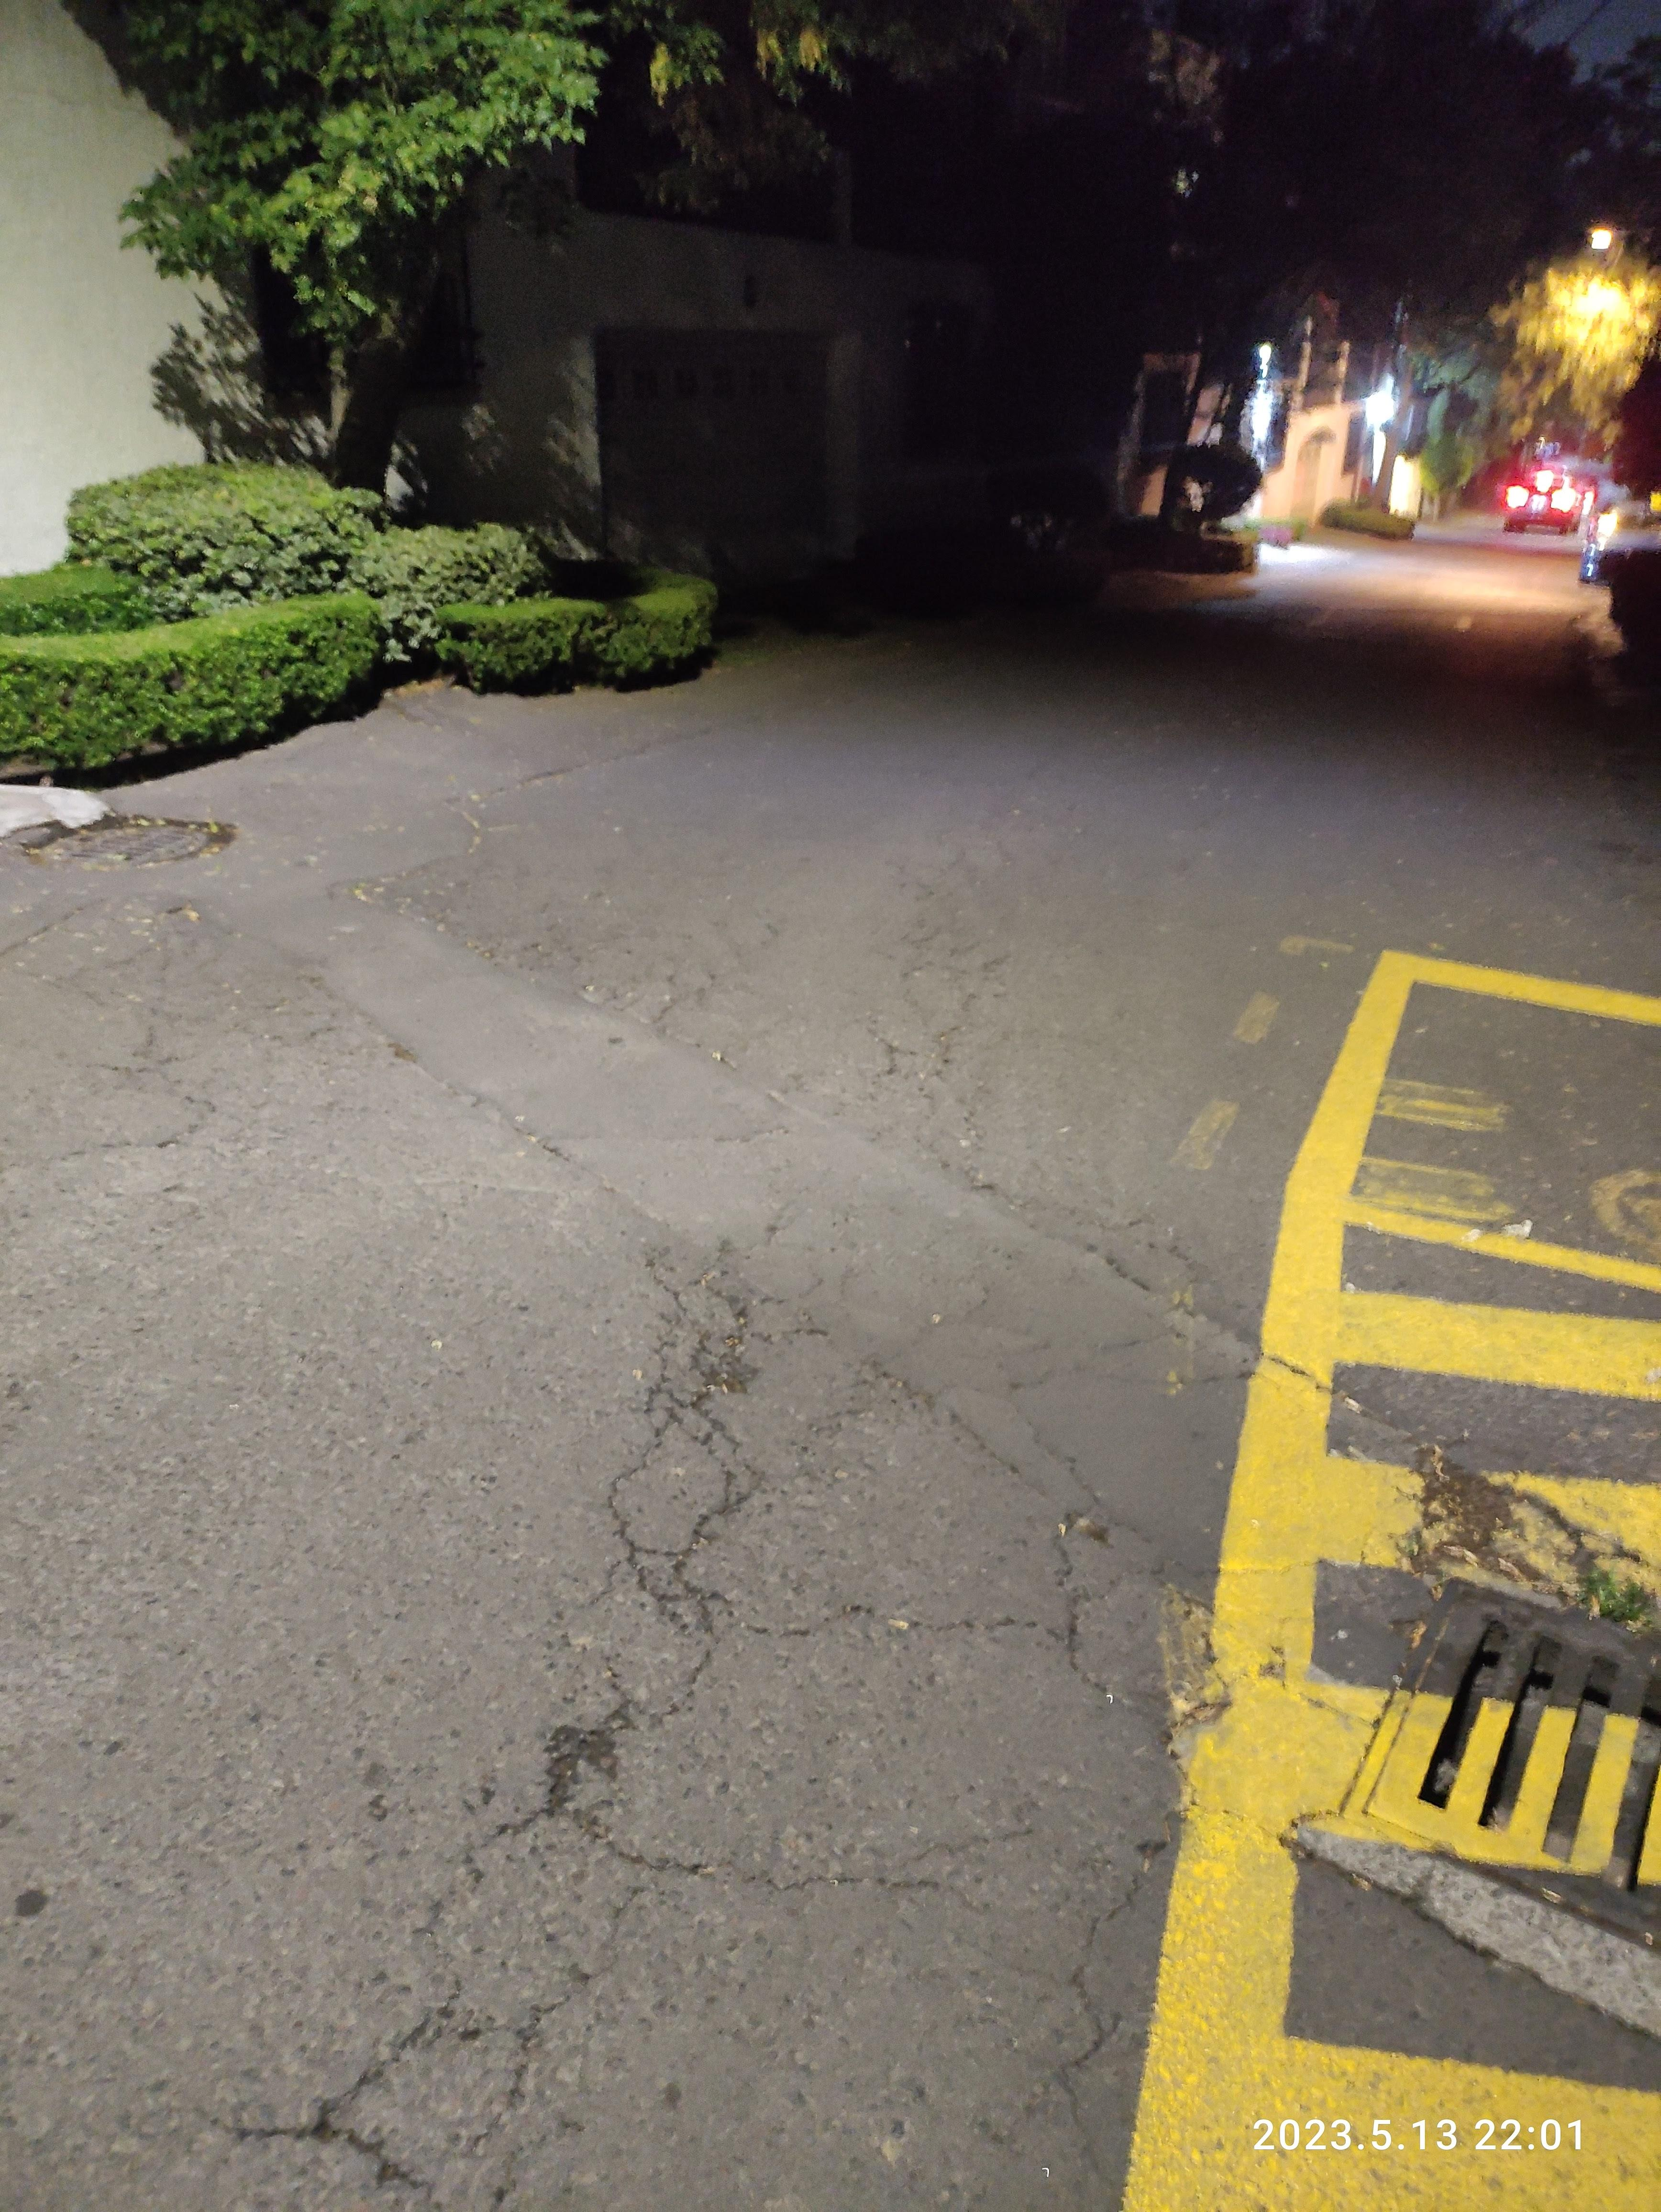alligator-crack: (607, 1244, 780, 1692)
crack: (1059, 1839, 1143, 2188), (584, 1832, 956, 1910), (1150, 1580, 1234, 1865), (782, 1593, 1085, 1666), (225, 2100, 431, 2200), (1082, 1226, 1211, 1326), (66, 1103, 218, 1167)
